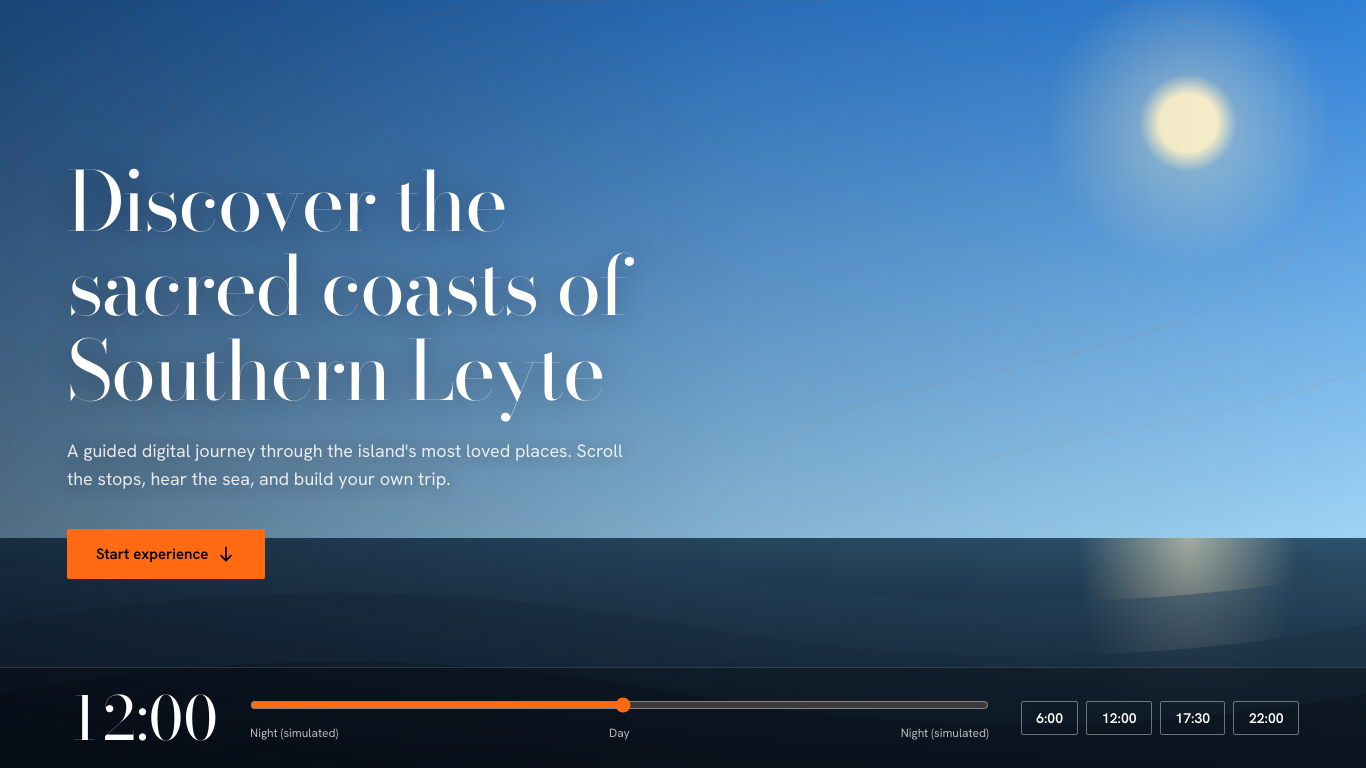
HorizonHero › jumps to a preset time
Click the button "22:00".
click(1266, 718)  # box [1234,701,1299,735]
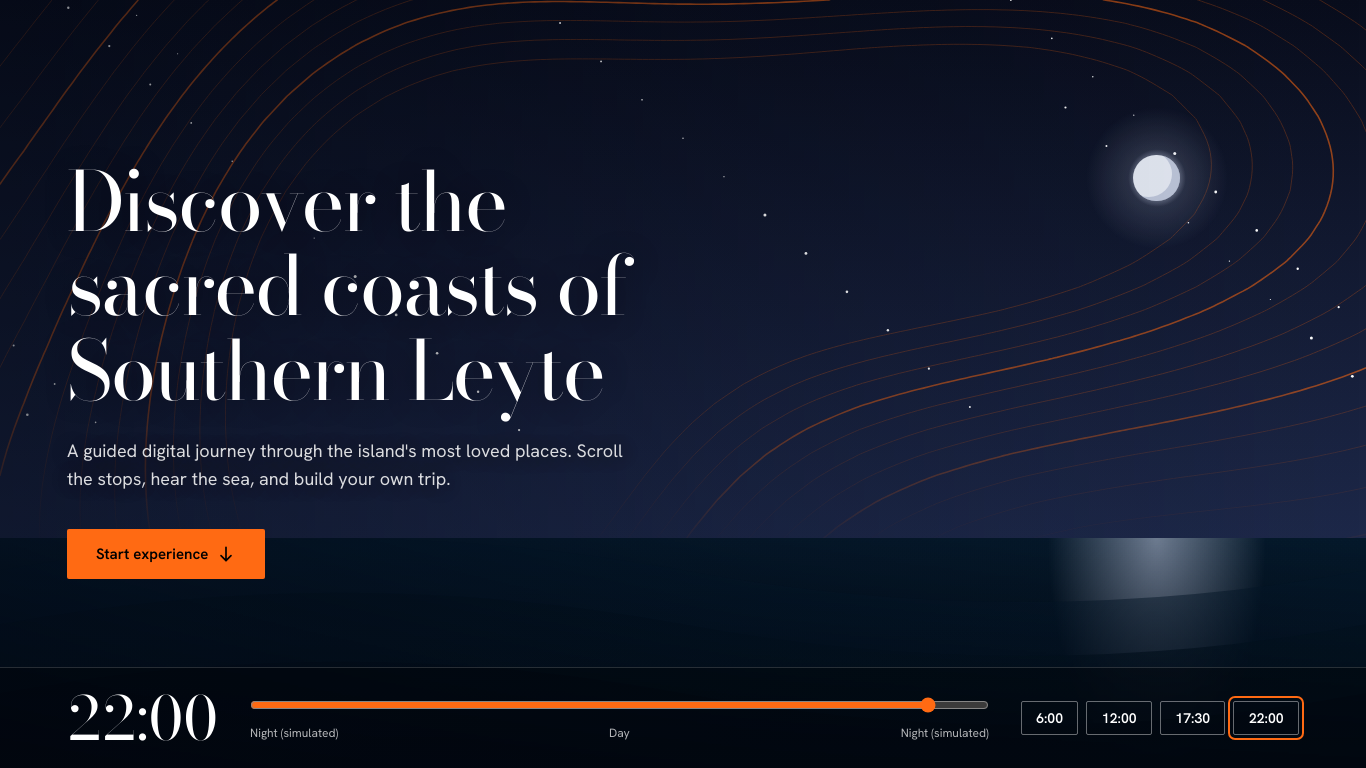
expect the slider has attribute aria-valuetext="22:00": met, box [250,697,989,713]
